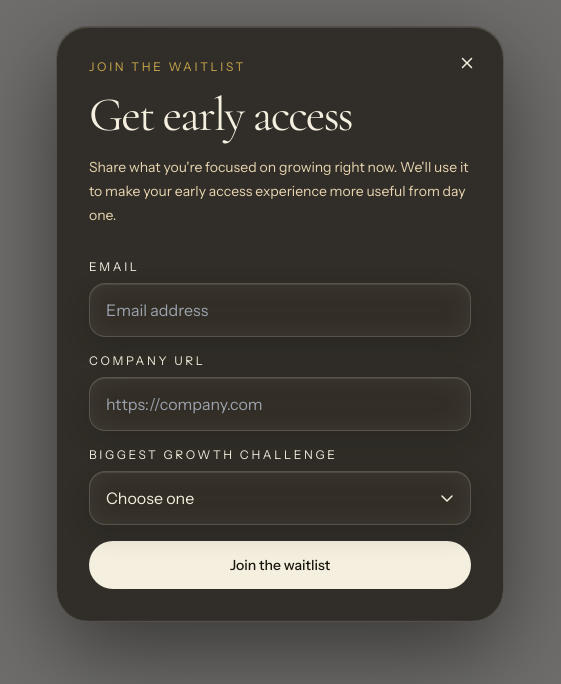
Test: WaitlistModal › submits selected growth challenge and tracking metadata
In the field with placeholder "Email address": coordinates (280, 310) [89,283,471,337], type "founder@example.com"
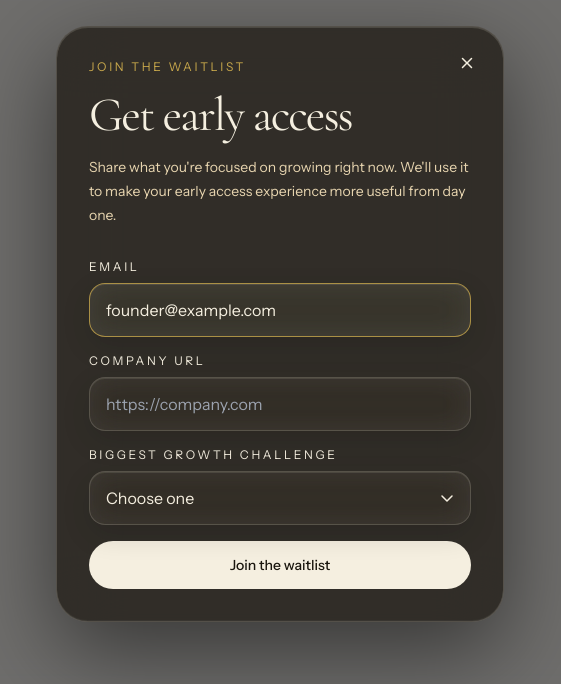
In the field with placeholder "https://company.com": coordinates (280, 404) [89,377,471,431], type "acme.com"
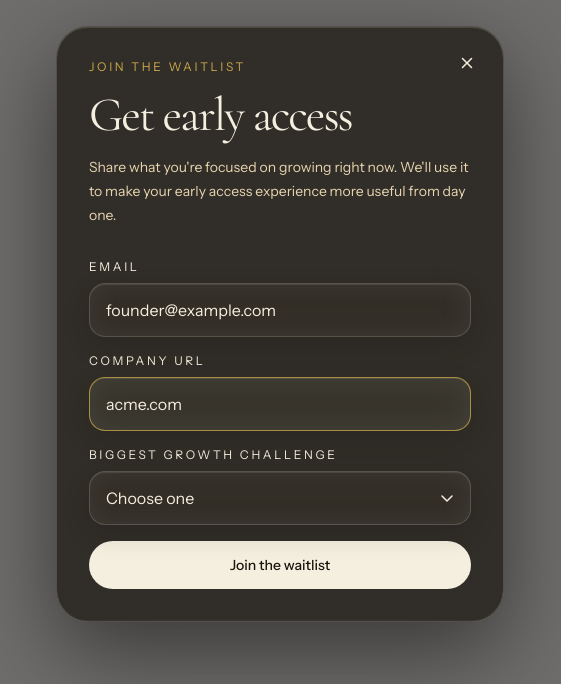
Select "distribution" in the dropdown labelled "Biggest growth challenge": coordinates (280, 498) [89,471,471,525]
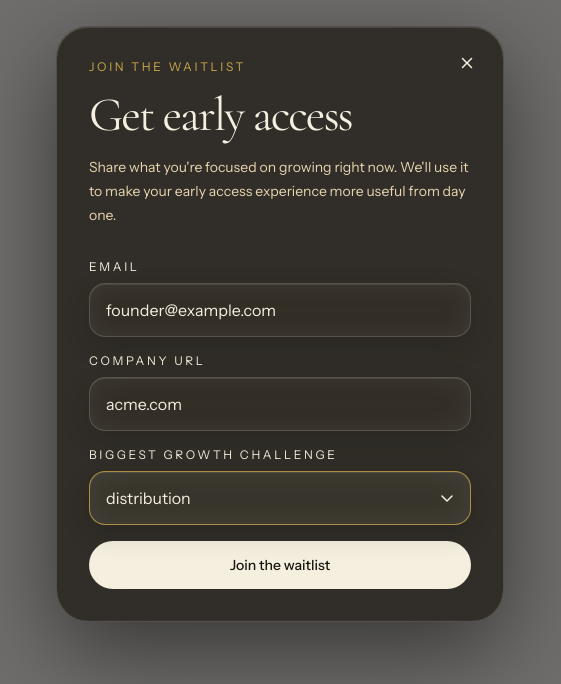
Click the button "Join the waitlist": coordinates (280, 565) [89,541,471,589]
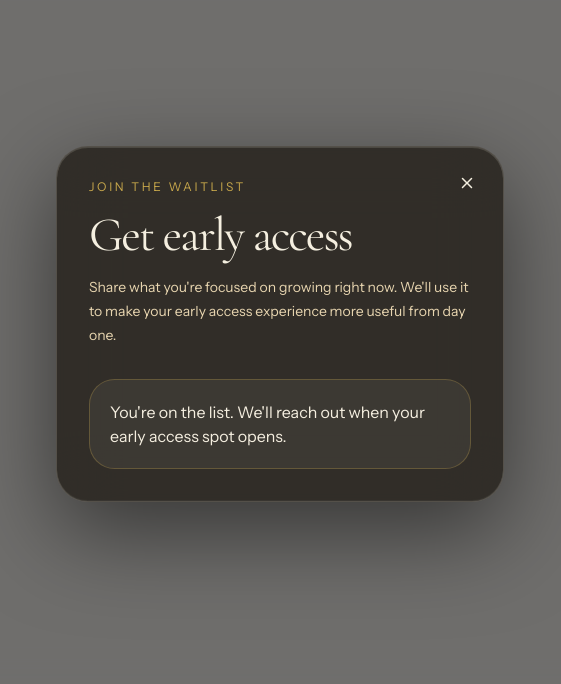
Now the text "You're on the list. We'll reach out when your early access spot opens." is shown, box [110,400,450,448]
